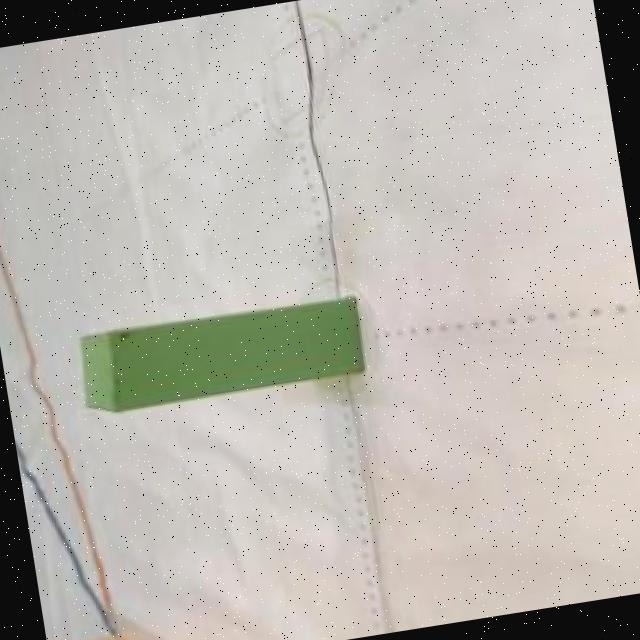greenbox: (77, 290, 368, 418)
